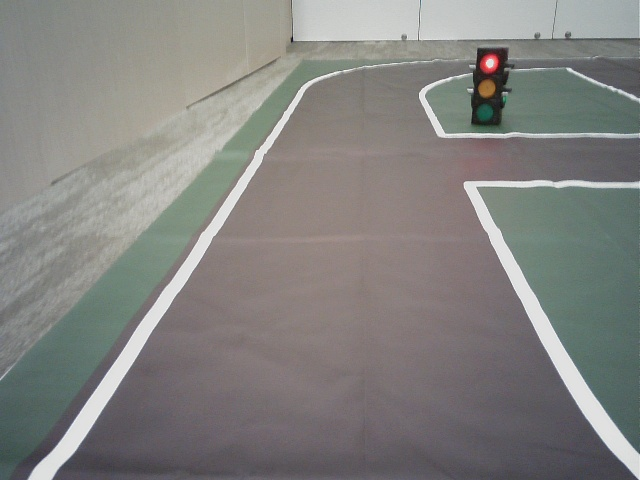red: (475, 50, 498, 120)
